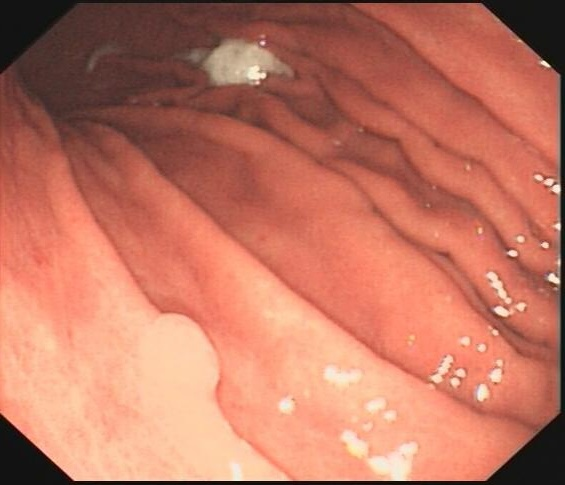Polyp: (142, 309, 226, 400)
